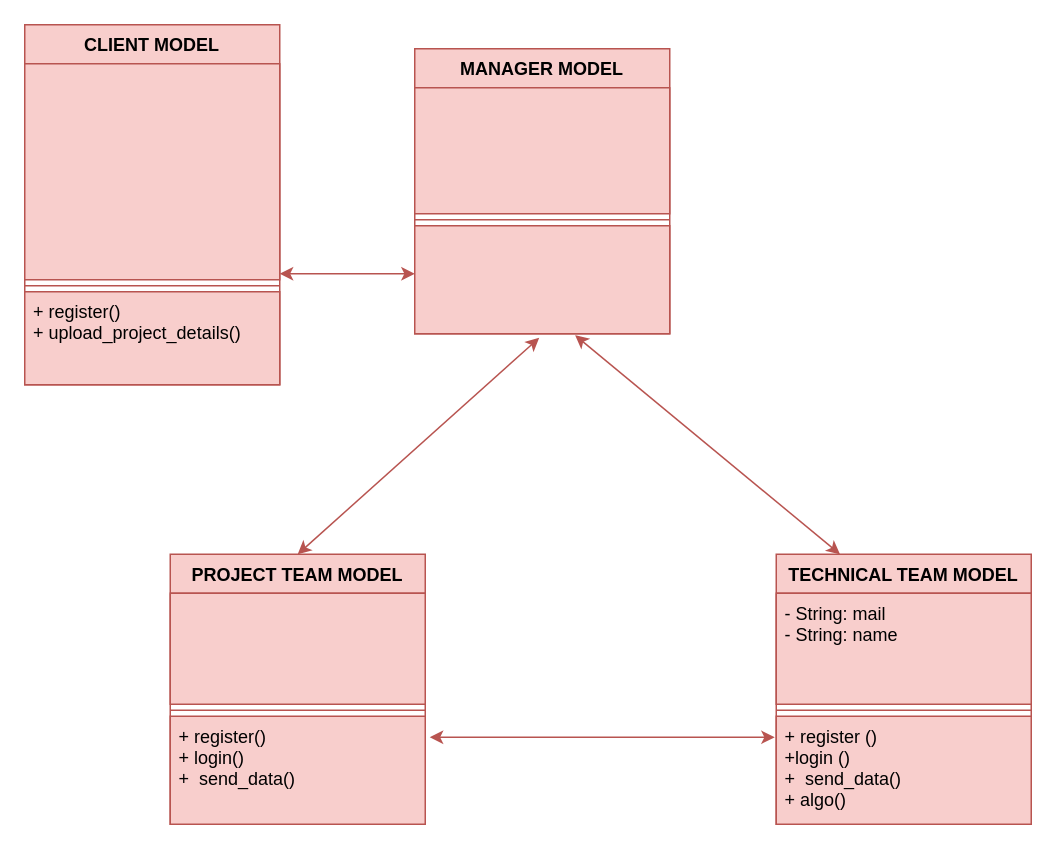
Image size: 1056x849. Some labels were removed from this diagram. Here are the shapes that lost their labels. From the top down, the box of each, then its label:
(413, 86, 670, 214): - String: email id - String: password
(23, 62, 280, 280): - String: Email id - String: name - String: Project_details - Int: phone
(413, 224, 670, 334): + approve_project() + reject project()
(169, 592, 425, 704): + login() : Boolean - String: mail - String: name
